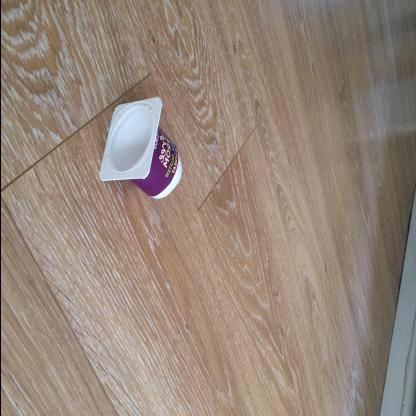plastik: (98, 96, 182, 199)
